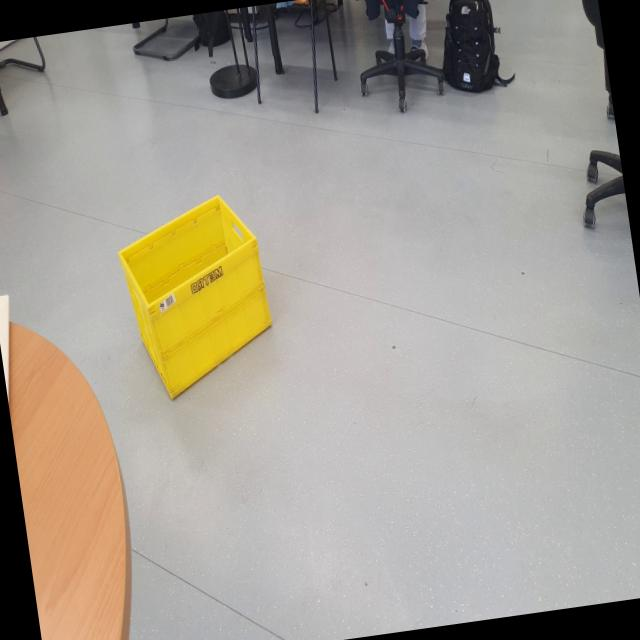box: (105, 170, 291, 416)
